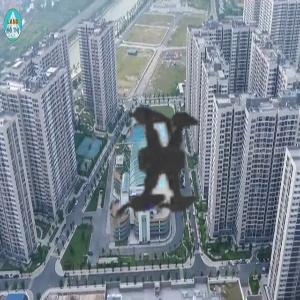drone: (32, 22, 300, 290)
